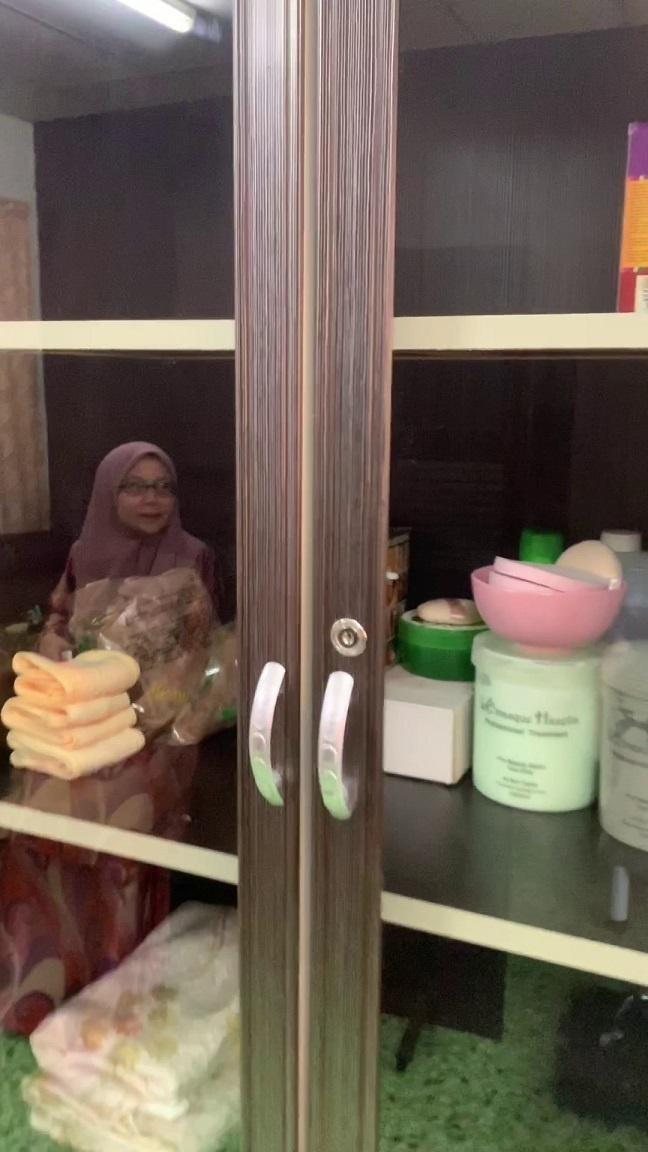Armario: (2, 17, 645, 1142)
